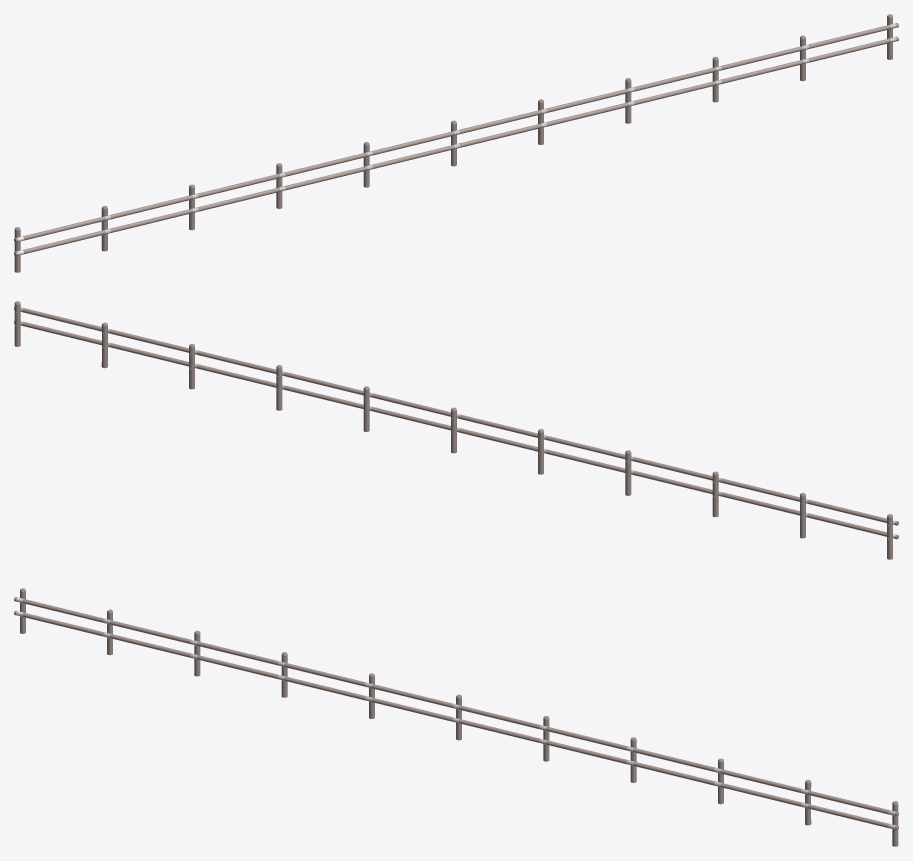
The model's file is 1041_guard_fence_10.glb.
3 views of the same model, one above another, from view 1: azimuth 30°, elevation 25°; view 2: azimuth 150°, elevation 25°; view 3: azimuth 330°, elevation 25° (orthographic).
Visible parts, largest first — view 1: Body; view 2: Body; view 3: Body.
Part boxes in pixels (<box>): Body: <box>14,14,898,272</box>; Body: <box>14,301,898,559</box>; Body: <box>14,588,898,846</box>.
Bounding box in the file's own units: 20.24 × 0.95 × 0.2256.
